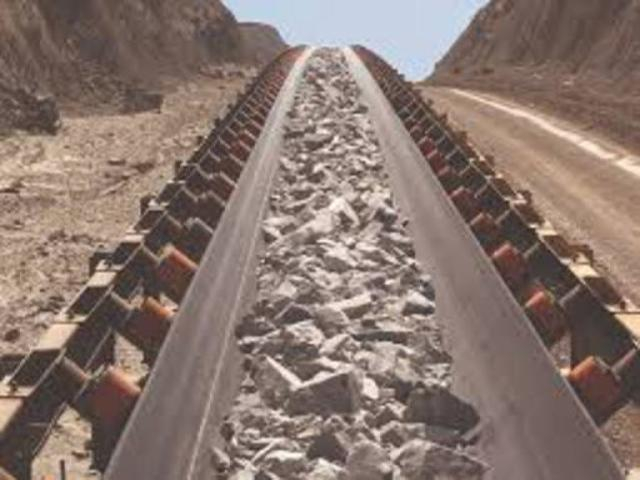conveyor: (0, 39, 639, 479)
